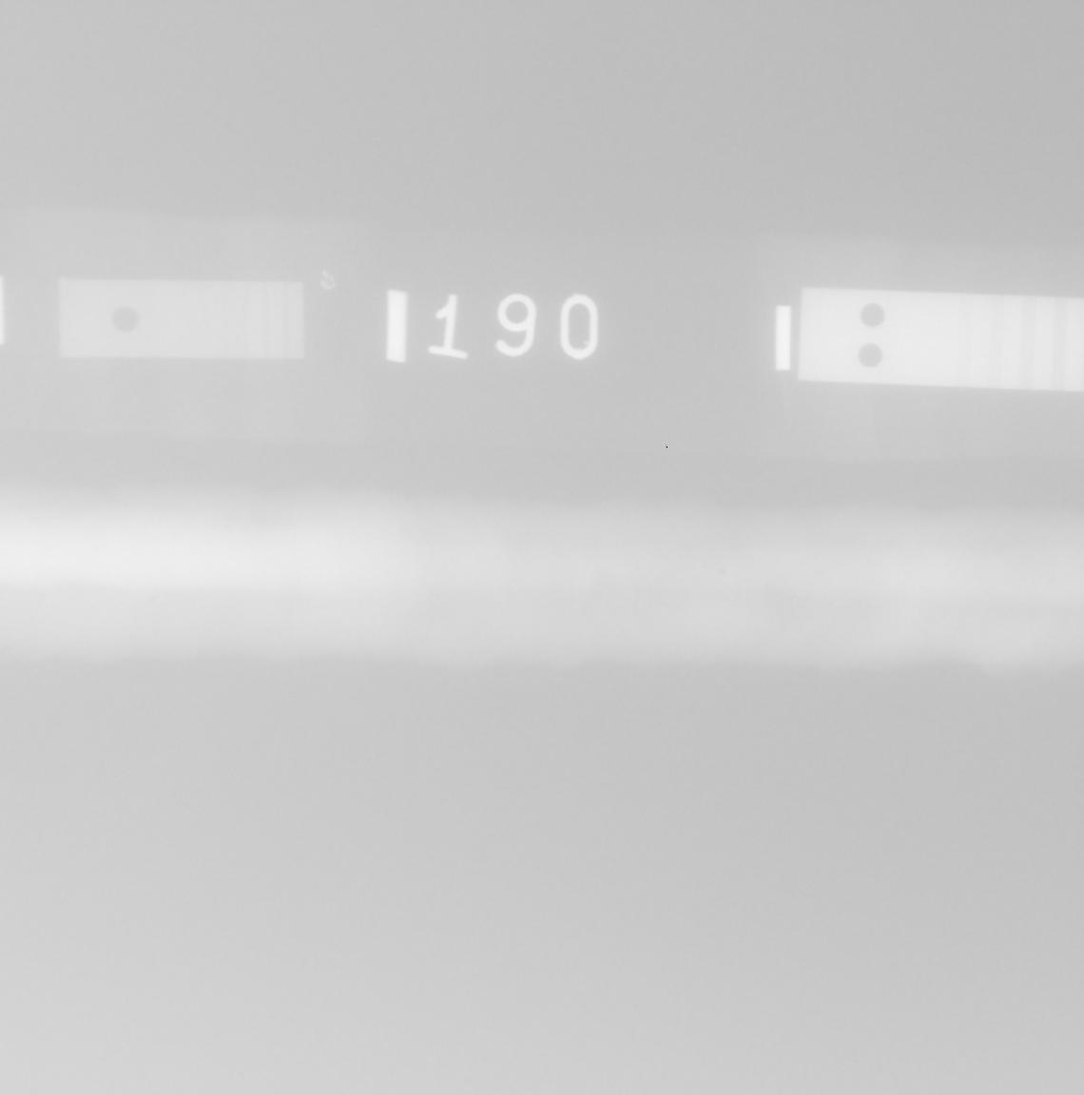Pore/Porosity: (125, 576, 135, 585), (718, 569, 725, 575), (684, 591, 689, 596), (1049, 578, 1054, 582), (735, 596, 739, 599)
Reference Standard 1: (59, 279, 304, 359)
